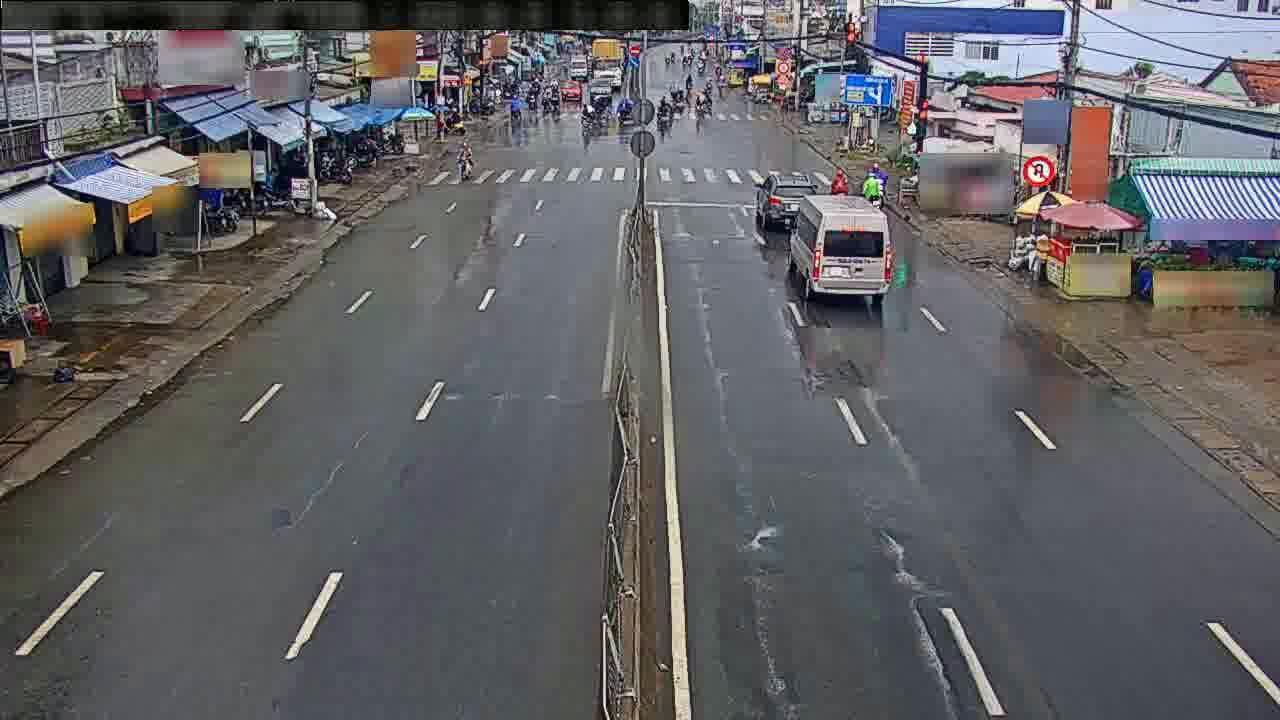14: (800, 198, 892, 297)
container: (757, 169, 816, 228)
motorbike: (453, 138, 478, 179), (858, 170, 883, 211), (870, 163, 893, 200), (829, 166, 846, 207)
